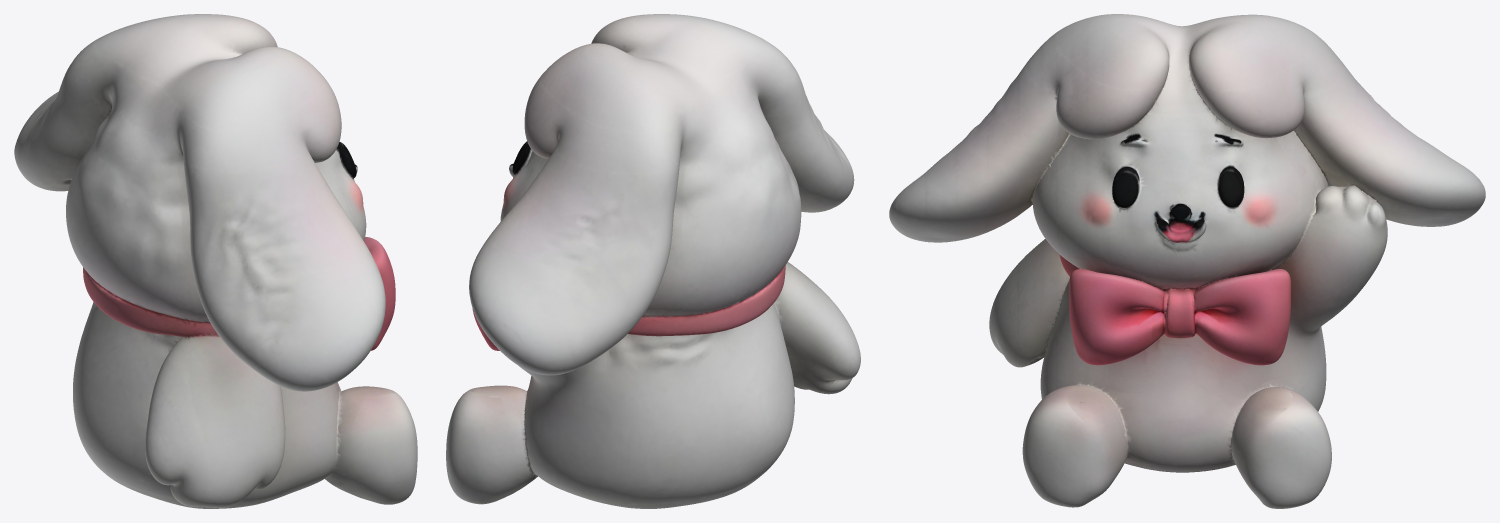
The model's file is maro-inu-hand.glb.
3 renders of one model, left to right at view 1: azimuth 30°, elevation 25°; view 2: azimuth 150°, elevation 25°; view 3: azimuth 270°, elevation 25°, orthographic. The views are drawn at different scales.
Visible parts, largest first — view 1: tripo_node_b9815711-2db1-41bf-a502-34950c310631; view 2: tripo_node_b9815711-2db1-41bf-a502-34950c310631; view 3: tripo_node_b9815711-2db1-41bf-a502-34950c310631.
Boxes of the visible parts, left/top/right/bottom form: tripo_node_b9815711-2db1-41bf-a502-34950c310631: left=14, top=14, right=417, bottom=508; tripo_node_b9815711-2db1-41bf-a502-34950c310631: left=446, top=14, right=860, bottom=508; tripo_node_b9815711-2db1-41bf-a502-34950c310631: left=889, top=14, right=1485, bottom=508.
Size of the model in its own units: 0.5246 by 0.7852 by 1.
1 material, 1 textured.
